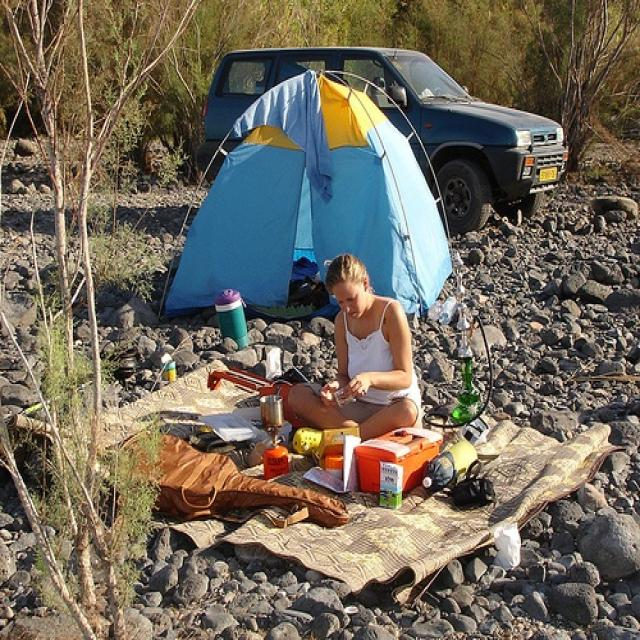car: (198, 47, 567, 229)
